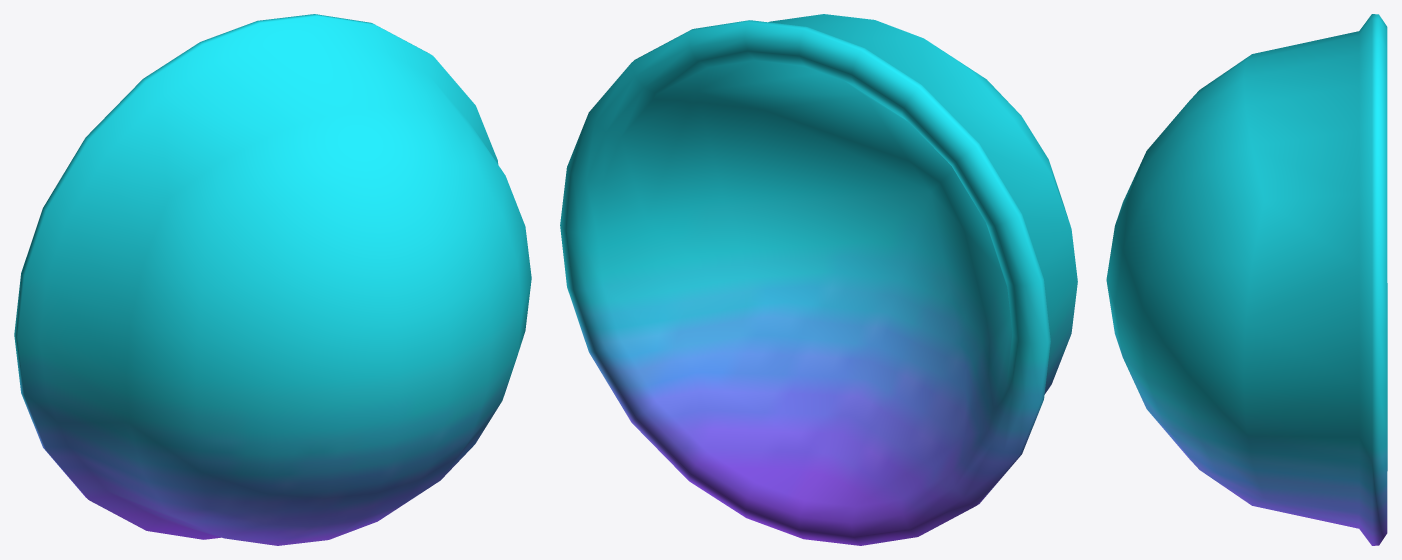
Rendered from Amongus02_Cut_010_0.FBX.
3 renders of one model, left to right at view 1: azimuth 30°, elevation 25°; view 2: azimuth 150°, elevation 25°; view 3: azimuth 270°, elevation 25°, orthographic. The views are drawn at different scales.
Parts seen in each view (by area): view 1: Amongus02_Cut_010_0; view 2: Amongus02_Cut_010_0; view 3: Amongus02_Cut_010_0.
Boxes of the visible parts, x1,y1,x2,y2 form: Amongus02_Cut_010_0: [14, 14, 531, 545]; Amongus02_Cut_010_0: [560, 14, 1077, 545]; Amongus02_Cut_010_0: [1106, 14, 1387, 545].
Size of the model in its own units: 0.7584 by 0.4 by 0.7584.
